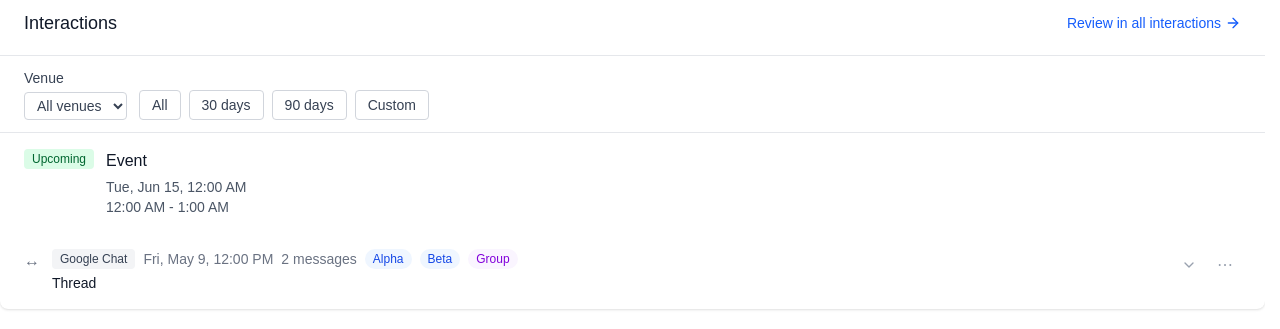
Interactions filter wiring › uses the accelerated clock for custom upcoming visibility
Expected: the text "Thread" is shown, [52,275,96,291]
Click the button "Custom" at (392, 105), box [355,90,429,120]
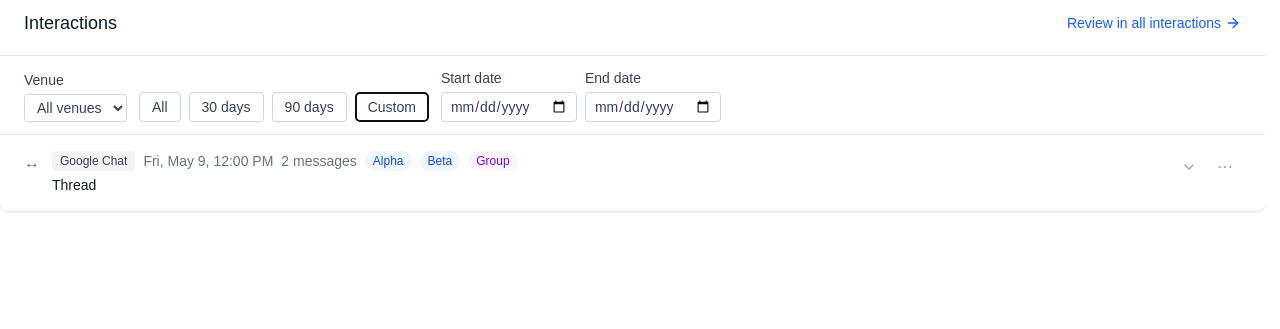
Type "2027-06-01" into the date field labelled "Start date" at (509, 107), box [441,92,577,122]
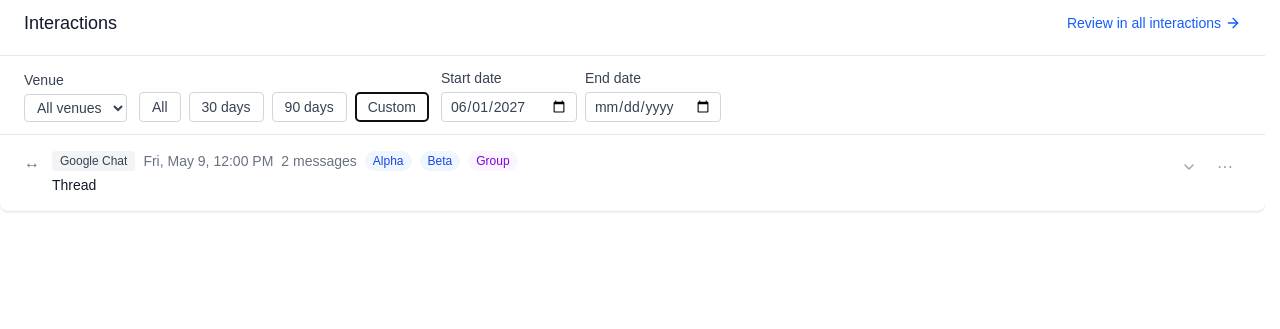
Type "2027-06-30" into the date field labelled "End date" at (653, 107), box [585,92,721,122]
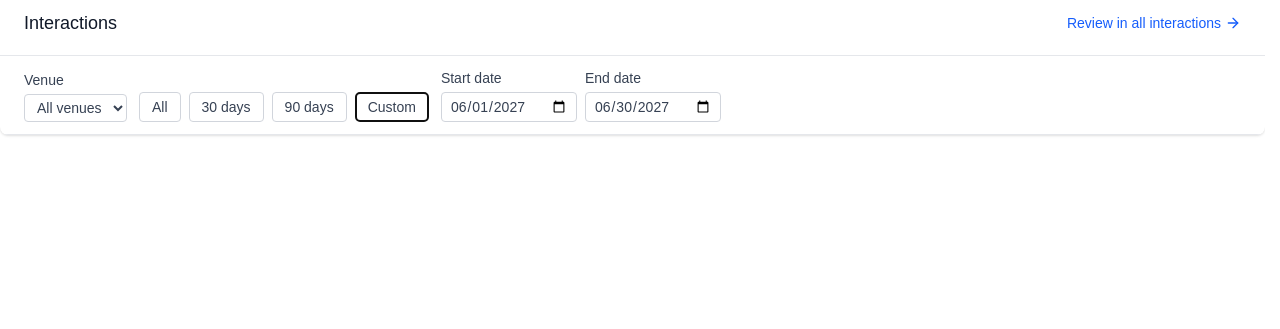
Type "2031-06-01" into the date field labelled "Start date" at (509, 107), box [441,92,577,122]
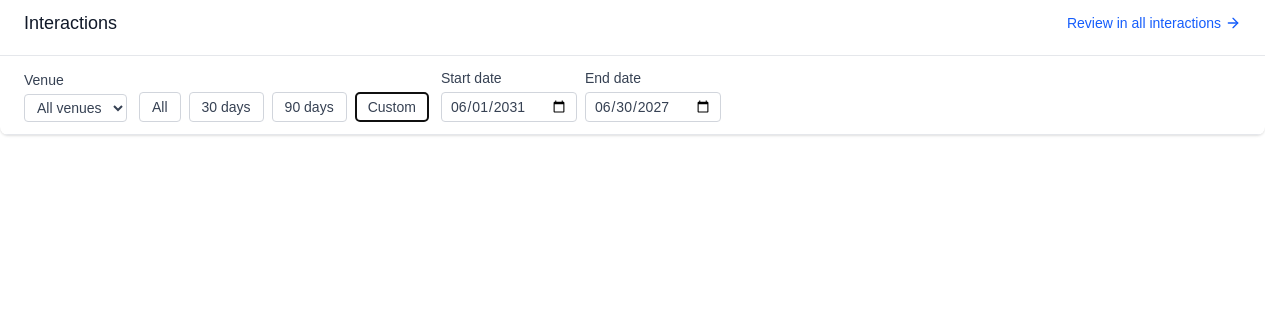
Type "2031-12-31" into the date field labelled "End date" at (653, 107), box [585,92,721,122]
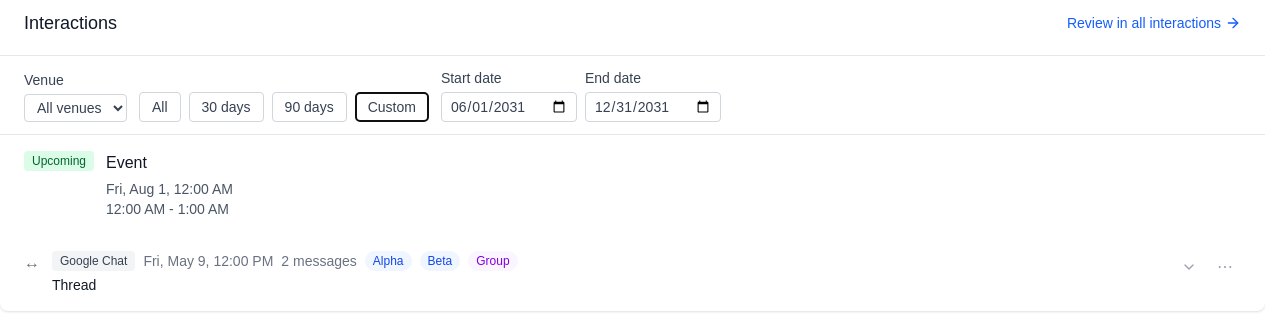
Now the list item "Upcoming Event Fri, Aug 1, 12:00 AM 12:00 AM - 1:00 AM" is shown, box [24,151,233,217]
